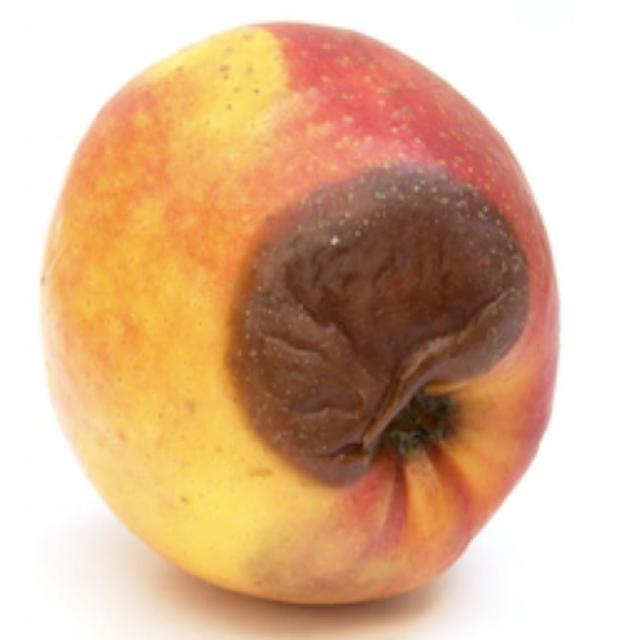Rotten: (97, 33, 550, 590)
